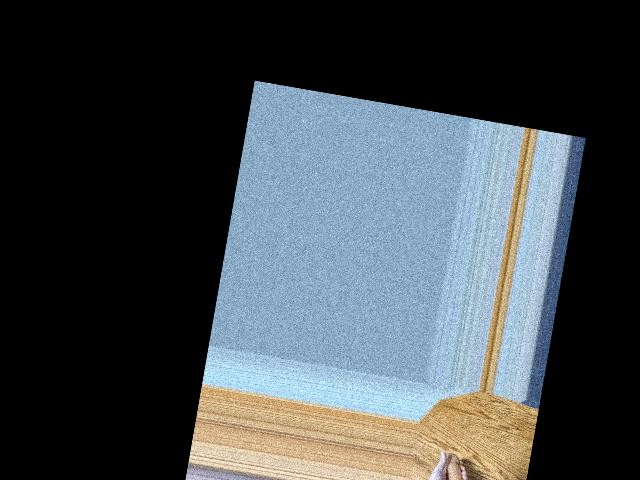sweet_potato: (439, 450, 478, 480)
